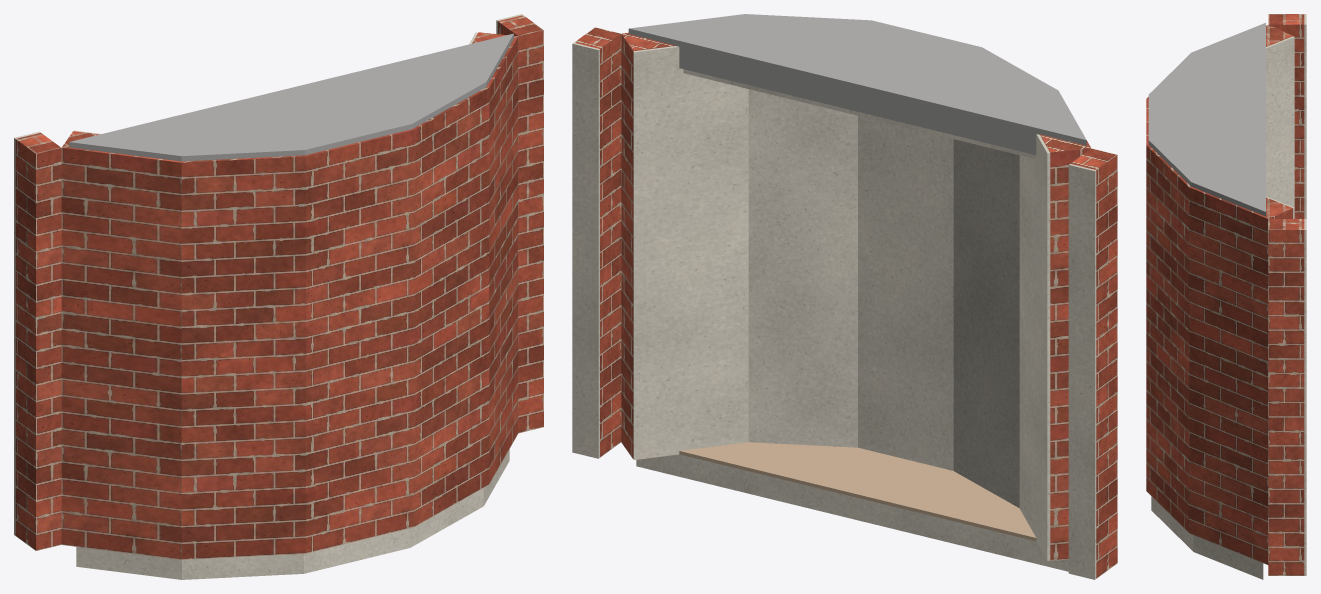
File: bay_a2.glb
3 views of the same model, side by side, from view 1: azimuth 30°, elevation 25°; view 2: azimuth 150°, elevation 25°; view 3: azimuth 270°, elevation 25° (orthographic). The views are drawn at different scales.
Parts seen in each view (by area): view 1: bay_a2_brick, bay_a2_roof, bay_a2_plaster; view 2: bay_a2_plaster, bay_a2_brick, bay_a2_roof, bay_a2_floor; view 3: bay_a2_brick, bay_a2_roof, bay_a2_plaster.
Boxes of the visible parts, left/top/right/bottom form: bay_a2_brick: left=15, top=15, right=543, bottom=559; bay_a2_roof: left=69, top=33, right=513, bottom=161; bay_a2_plaster: left=14, top=14, right=522, bottom=579; bay_a2_plaster: left=572, top=43, right=1096, bottom=579; bay_a2_brick: left=574, top=27, right=1117, bottom=578; bay_a2_roof: left=628, top=14, right=1086, bottom=154; bay_a2_floor: left=679, top=442, right=1036, bottom=541; bay_a2_brick: left=1146, top=14, right=1304, bottom=575; bay_a2_roof: left=1148, top=23, right=1265, bottom=216; bay_a2_plaster: left=1151, top=14, right=1306, bottom=579.
Bounding box in the file's own units: 4 × 3.2 × 1.26.
Materials: 4 (2 with a texture image).
